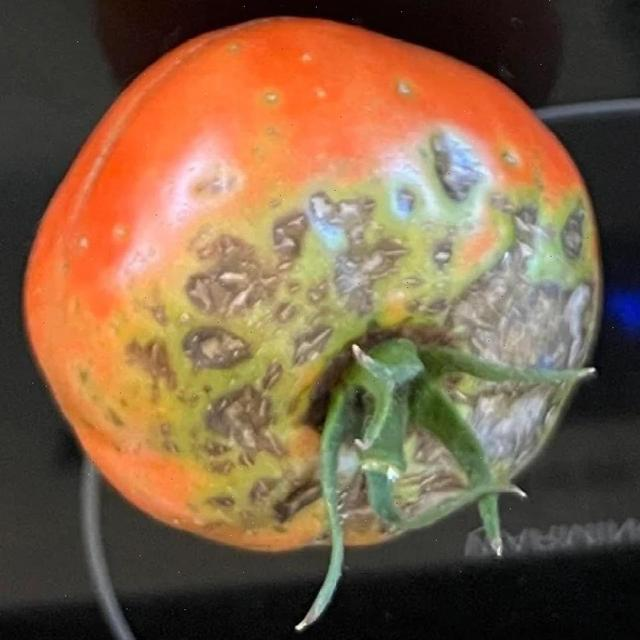Spotted wilt Virus Fruit: (102, 178, 326, 544)
